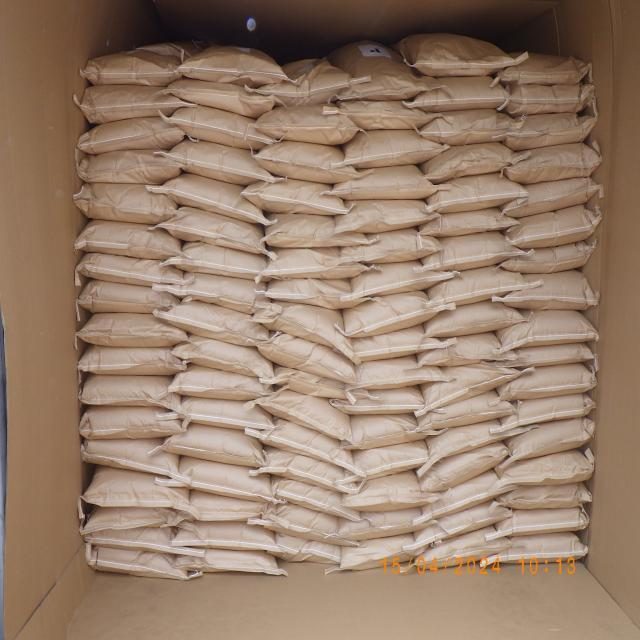gunny_bag: (327, 42, 432, 104), (252, 299, 354, 359), (397, 30, 529, 76), (416, 360, 524, 416), (154, 175, 268, 228), (162, 458, 278, 508), (157, 204, 273, 253), (163, 105, 276, 154), (255, 388, 352, 444), (256, 332, 356, 386), (254, 420, 361, 470), (80, 464, 191, 512), (416, 469, 512, 524), (154, 302, 268, 348), (340, 290, 446, 338), (414, 438, 510, 491), (166, 138, 274, 185), (160, 424, 269, 470), (156, 270, 268, 314), (256, 58, 354, 108), (414, 388, 516, 436), (346, 260, 452, 306), (250, 505, 358, 550), (427, 264, 532, 310), (411, 500, 513, 546), (168, 334, 272, 379), (258, 448, 362, 493), (160, 242, 271, 284), (72, 183, 180, 226), (254, 141, 357, 186), (166, 76, 276, 118), (504, 202, 602, 249), (501, 307, 598, 354), (330, 532, 436, 575), (268, 475, 364, 522), (76, 218, 183, 260), (256, 106, 362, 148), (416, 527, 512, 573), (178, 46, 288, 86), (420, 230, 524, 272), (423, 171, 527, 213), (502, 176, 601, 220), (340, 128, 446, 169), (74, 82, 182, 122), (500, 269, 600, 312), (503, 144, 604, 186), (246, 178, 352, 218), (73, 117, 184, 155), (330, 164, 440, 202), (341, 470, 438, 513), (424, 300, 528, 340), (504, 418, 596, 463), (422, 417, 512, 463), (408, 74, 514, 113), (81, 438, 184, 478), (418, 142, 516, 184), (86, 544, 194, 582), (76, 253, 186, 290), (498, 394, 598, 434), (78, 314, 188, 350), (82, 50, 186, 88), (75, 150, 184, 186), (166, 366, 275, 402), (342, 356, 448, 393), (502, 112, 600, 152), (498, 363, 598, 402), (421, 109, 521, 148), (496, 448, 596, 487), (170, 397, 275, 434), (77, 371, 182, 408), (346, 441, 436, 484), (333, 198, 440, 234), (258, 248, 368, 283), (347, 326, 445, 365), (261, 212, 367, 248), (74, 278, 180, 314), (341, 228, 443, 265), (78, 406, 182, 442), (84, 528, 200, 560), (340, 413, 435, 451), (171, 548, 289, 578), (333, 100, 437, 134), (416, 332, 514, 368), (173, 490, 276, 524), (480, 534, 589, 566), (171, 523, 279, 555), (335, 506, 435, 540), (261, 276, 361, 310), (82, 504, 193, 534), (422, 205, 522, 238), (77, 346, 186, 376), (499, 84, 594, 118), (492, 506, 592, 538), (496, 52, 590, 86), (501, 240, 595, 274), (264, 366, 356, 400), (332, 384, 427, 416), (264, 532, 350, 566), (494, 482, 591, 510), (498, 342, 596, 369)
